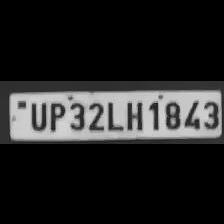1: (143, 97, 161, 130)
2: (85, 97, 105, 130)
3: (65, 98, 85, 130), (200, 97, 220, 129)
4: (181, 97, 201, 129)
8: (161, 97, 181, 129)
H: (124, 97, 144, 130)
L: (104, 97, 122, 130)
P: (46, 97, 66, 130)
U: (26, 98, 46, 130)
